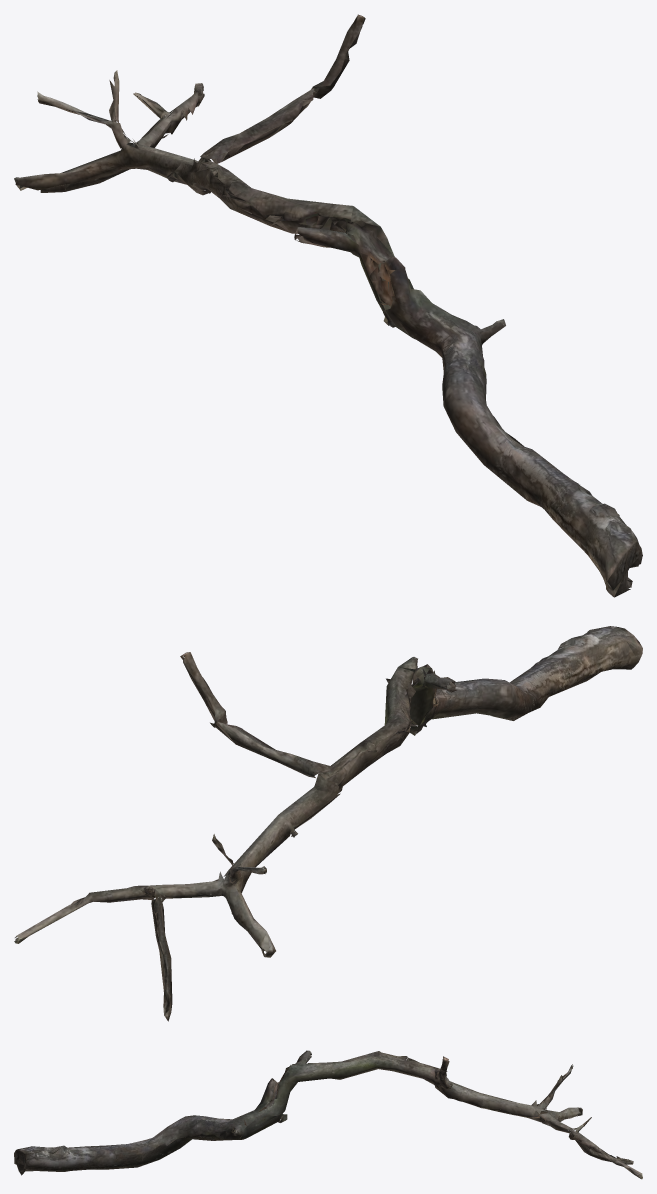
Rendered from dry_branches_medium_01_a.glb.
3 renders of one model, top to bottom at view 1: azimuth 30°, elevation 25°; view 2: azimuth 150°, elevation 25°; view 3: azimuth 270°, elevation 25°, orthographic. The views are drawn at different scales.
Visible parts, largest first — view 1: dry_branches_medium_01_a; view 2: dry_branches_medium_01_a; view 3: dry_branches_medium_01_a.
Part boxes in pixels (x1,y1,x2,y2): dry_branches_medium_01_a: (14, 14, 642, 597); dry_branches_medium_01_a: (14, 626, 642, 1021); dry_branches_medium_01_a: (14, 1050, 642, 1179).
Bounding box in the file's own units: 0.324 × 0.3401 × 1.3.
1 material, 1 textured.
